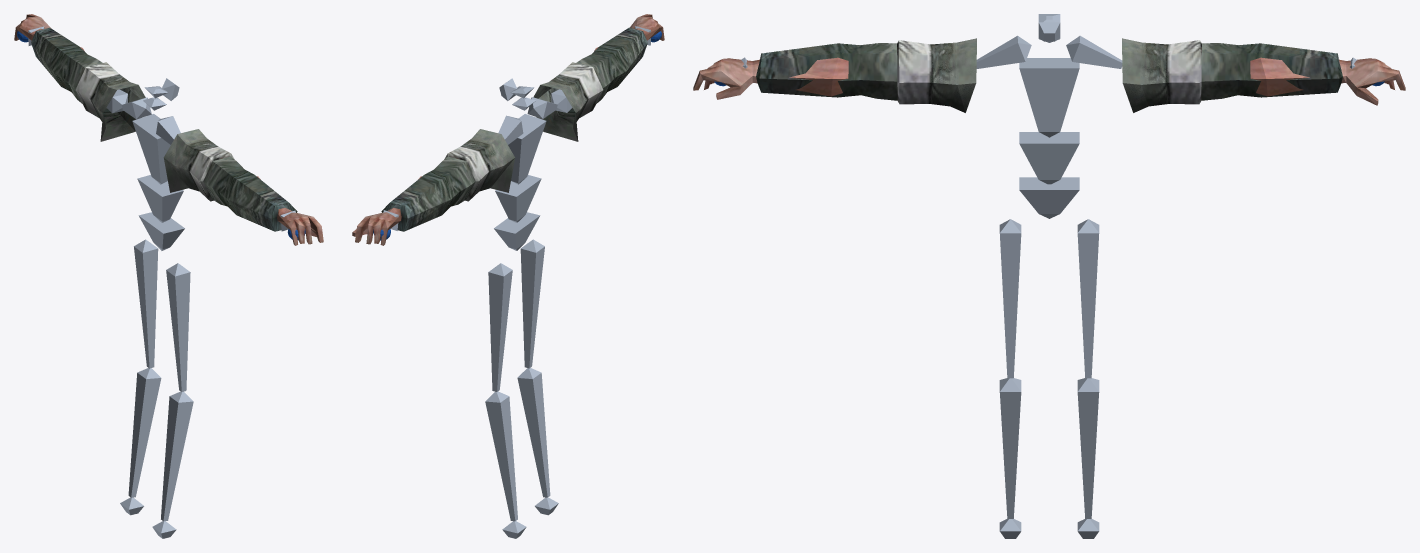
File: Marine arm variants.obj
3 views of the same model, side by side, from view 1: azimuth 30°, elevation 25°; view 2: azimuth 150°, elevation 25°; view 3: azimuth 270°, elevation 25° (orthographic). The views are drawn at different scales.
Visible parts, largest first — view 1: arms, bip01_r_calf, bip01_l_calf, bip01_r_thigh, bip01_l_thigh, bip01_spine1, bip01_spine, bip01_pelvis, bip01_r_clavicle, bip01_l_clavicle; view 2: arms, bip01_r_calf, bip01_l_calf, bip01_l_thigh, bip01_r_thigh, bip01_spine1, bip01_spine, bip01_pelvis, bip01_l_clavicle, bip01_r_clavicle; view 3: arms, bip01_spine1, bip01_l_thigh, bip01_r_thigh, bip01_spine, bip01_l_calf, bip01_r_calf, bip01_pelvis, bip01_l_clavicle, bip01_r_clavicle.
Boxes of the visible parts, x1,y1,x2,y2 form: arms: (14, 14, 323, 245); bip01_r_calf: (161, 391, 193, 521); bip01_l_calf: (128, 368, 161, 497); bip01_r_thigh: (166, 263, 190, 391); bip01_l_thigh: (134, 239, 158, 368); bip01_spine1: (132, 114, 170, 184); bip01_spine: (137, 175, 183, 222); bip01_pelvis: (138, 212, 184, 250); bip01_r_clavicle: (156, 116, 180, 144); bip01_l_clavicle: (121, 97, 151, 119); arms: (352, 14, 664, 245); bip01_r_calf: (517, 368, 550, 497); bip01_l_calf: (485, 391, 517, 521); bip01_l_thigh: (488, 263, 512, 391); bip01_r_thigh: (520, 239, 544, 368); bip01_spine1: (508, 114, 546, 184); bip01_spine: (495, 175, 541, 222); bip01_pelvis: (494, 212, 540, 250); bip01_l_clavicle: (498, 115, 523, 144); bip01_r_clavicle: (527, 97, 557, 118); arms: (693, 38, 1405, 112); bip01_spine1: (1019, 58, 1079, 137); bip01_l_thigh: (1077, 219, 1099, 378); bip01_r_thigh: (999, 219, 1021, 378); bip01_spine: (1019, 132, 1079, 184); bip01_l_calf: (1077, 378, 1099, 518); bip01_r_calf: (999, 378, 1021, 518); bip01_pelvis: (1019, 177, 1079, 218); bip01_l_clavicle: (1066, 35, 1122, 68); bip01_r_clavicle: (976, 35, 1031, 68).
Bounding box in the file's own units: 7.4 × 53.94 × 66.
